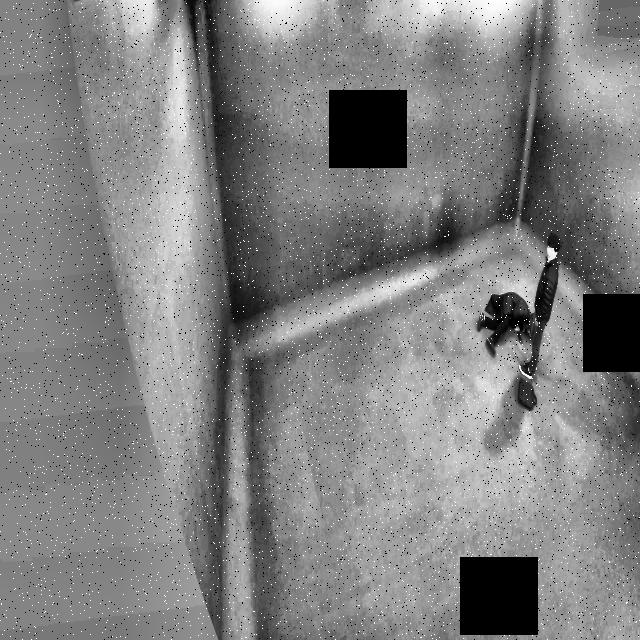assult: (472, 225, 572, 389)
